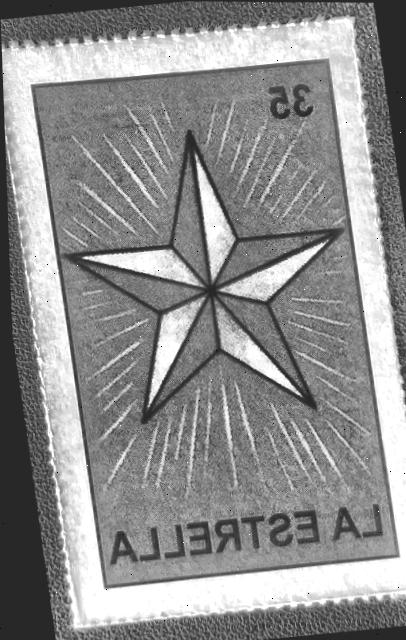La Estrella: (6, 28, 406, 612)
